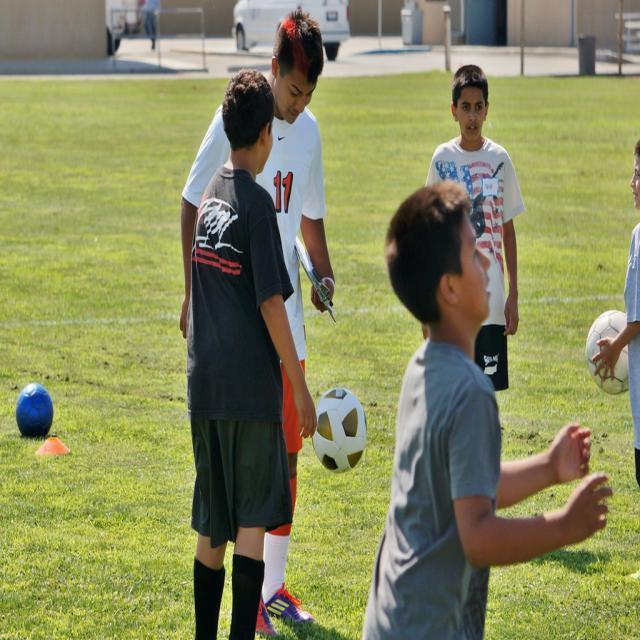football: (305, 381, 381, 476), (581, 313, 637, 407), (9, 377, 67, 439)
